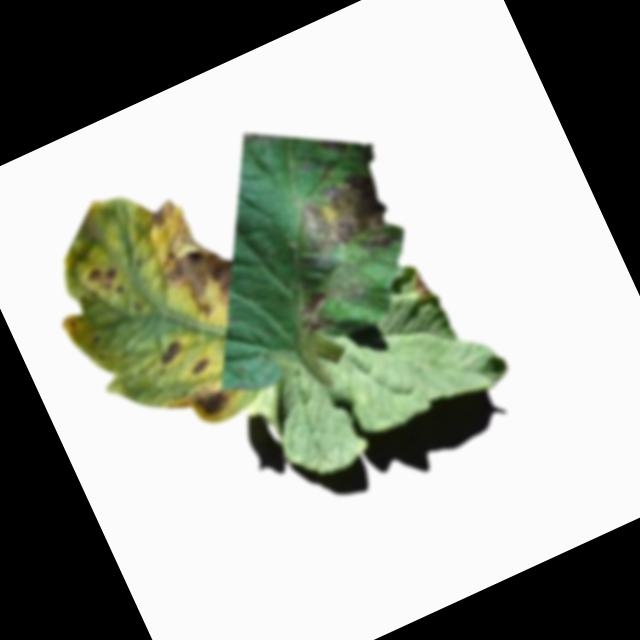Early_blight: (133, 185, 250, 328), (278, 166, 406, 284), (290, 287, 342, 338), (189, 382, 239, 426), (83, 261, 127, 307), (153, 341, 184, 369), (408, 271, 434, 303), (190, 357, 213, 376)
